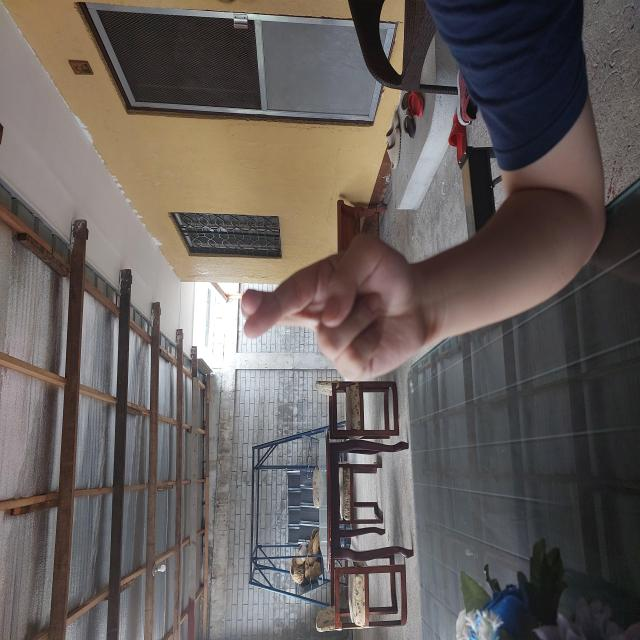R: (253, 237, 410, 432)
